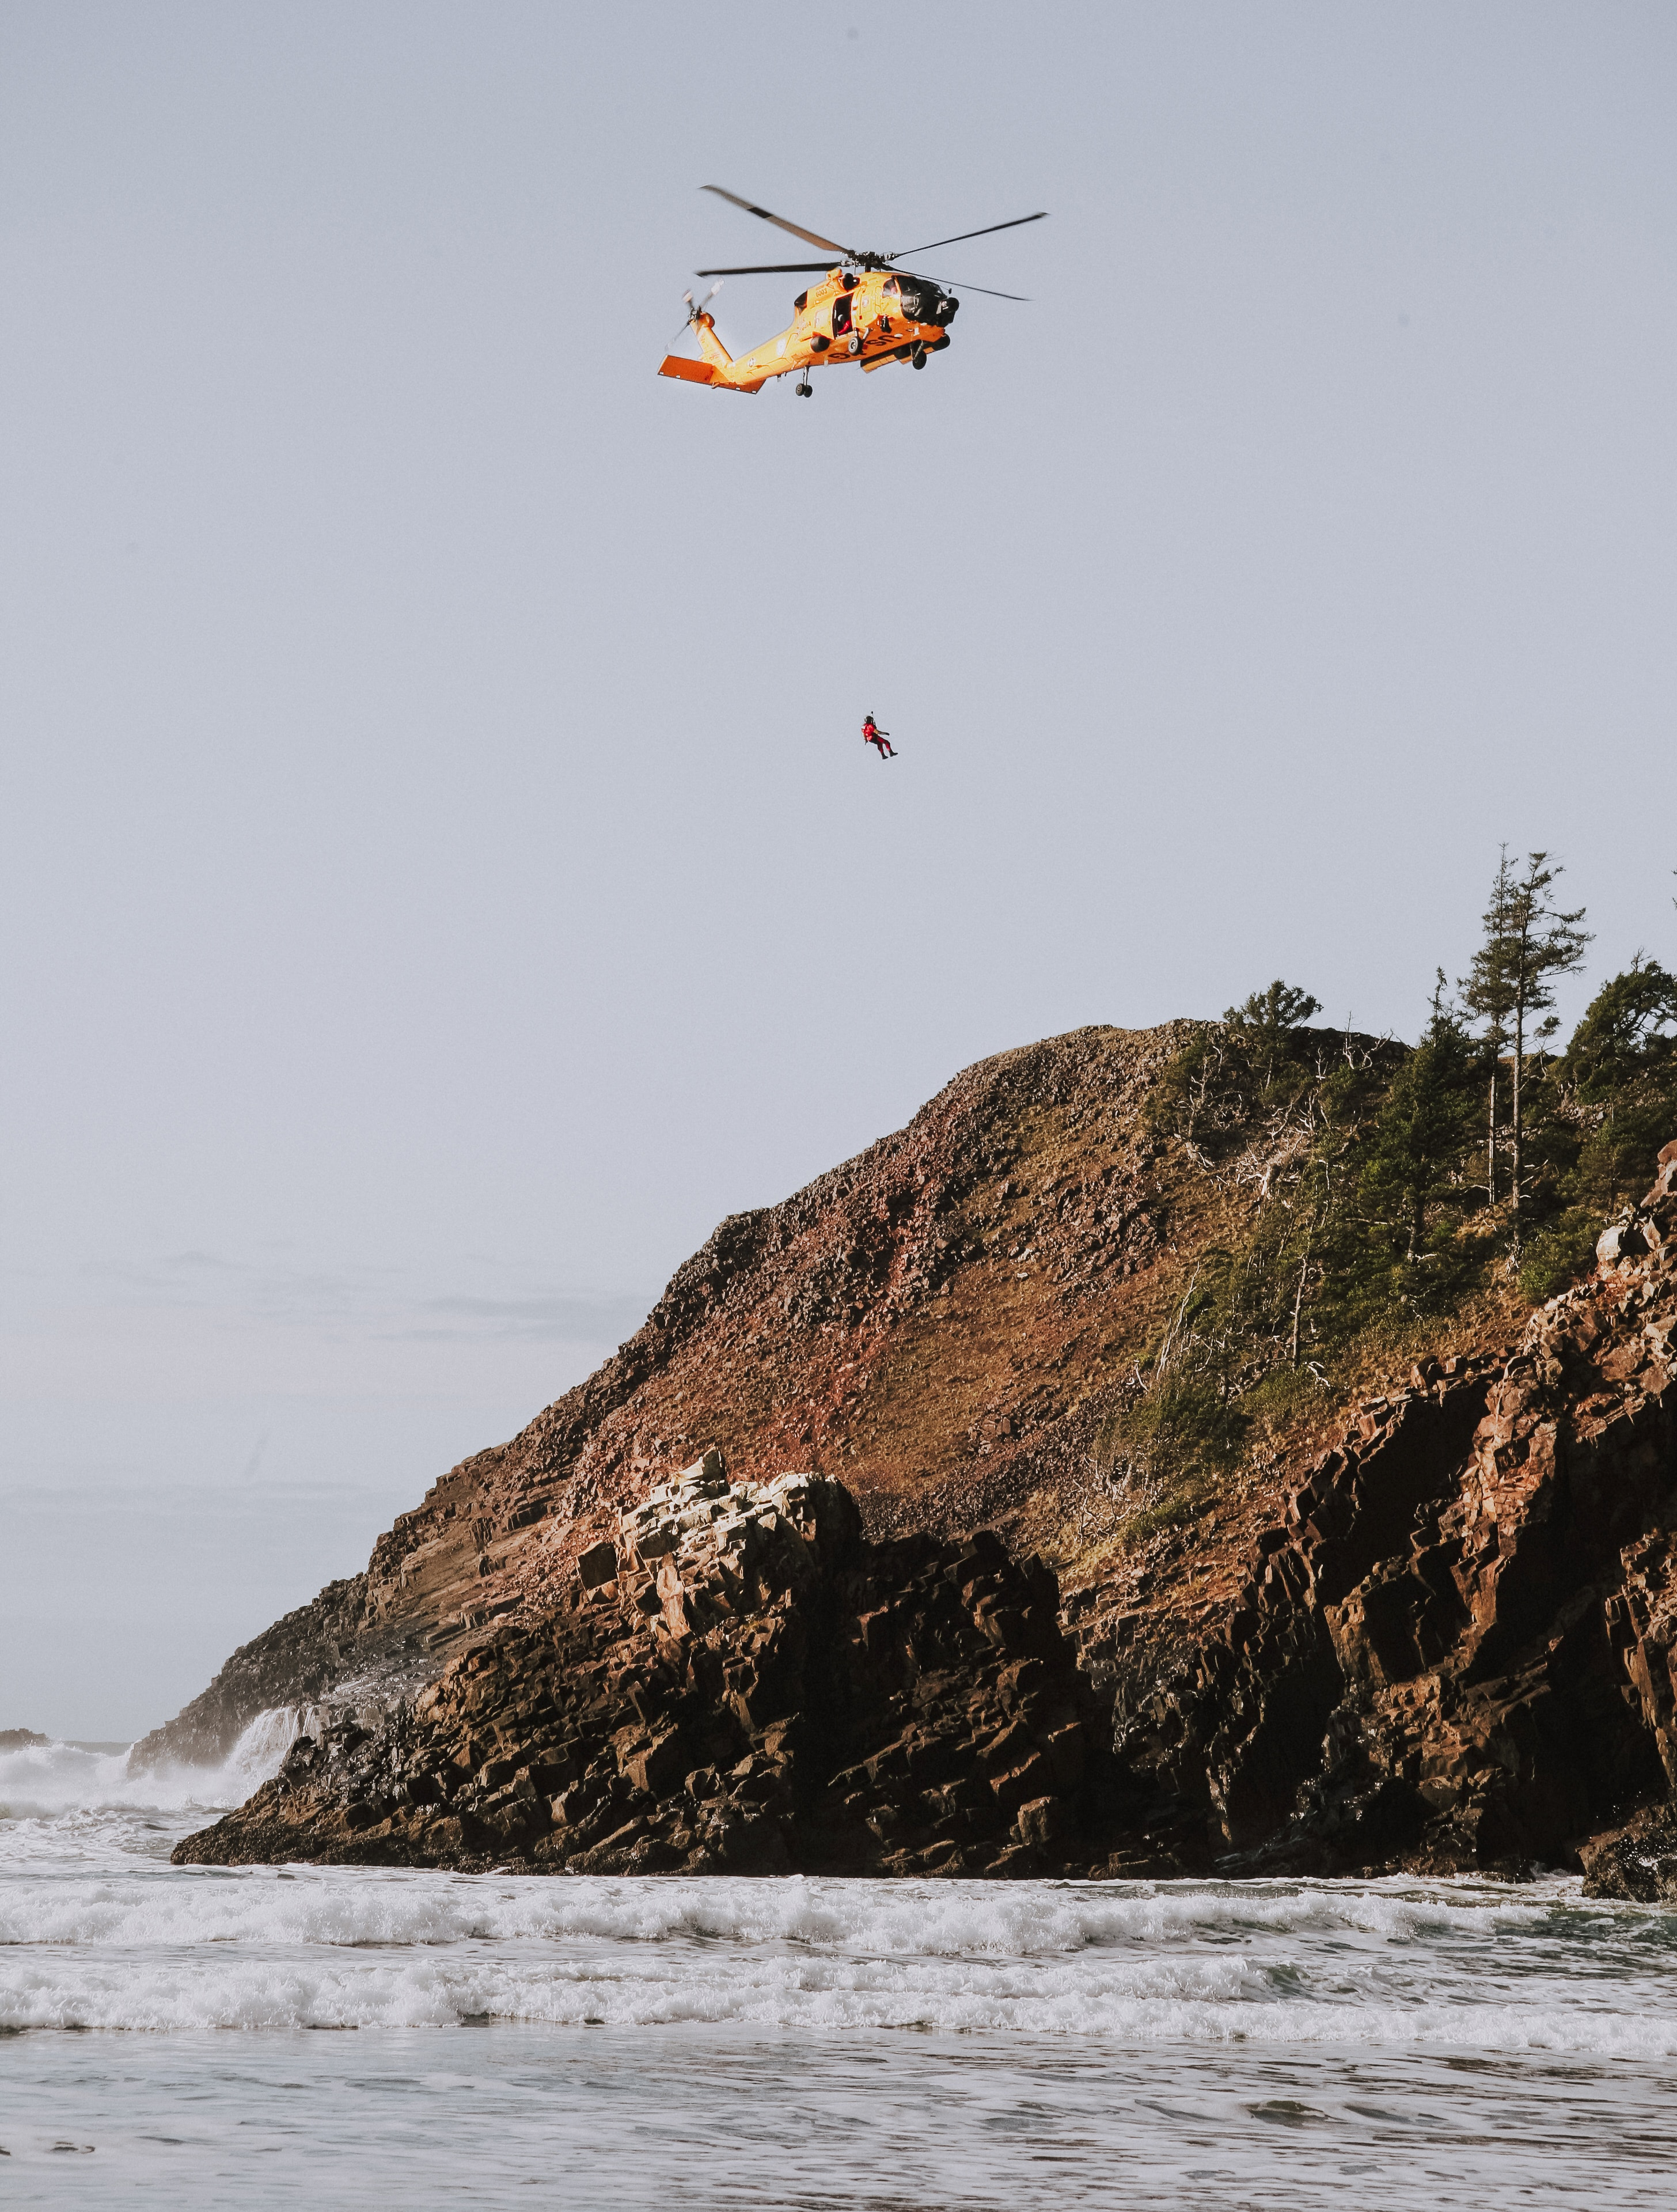helicopter: (565, 127, 1203, 481)
